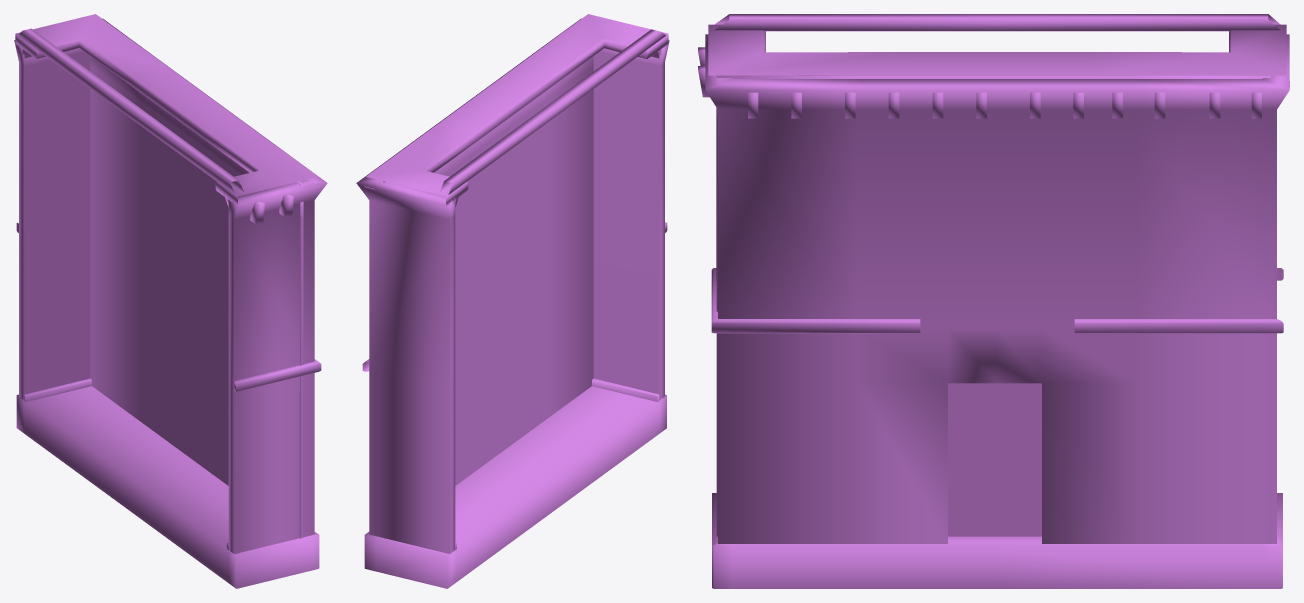
The model's file is Endbuilding(Mine)closed.fbx.
The picture shows the model from 3 angles, left to right: view 1: azimuth 30°, elevation 25°; view 2: azimuth 150°, elevation 25°; view 3: azimuth 270°, elevation 25°; orthographic projection. The views are drawn at different scales.
Visible parts, largest first — view 1: BrickHouse_End_B.001; view 2: BrickHouse_End_B.001; view 3: BrickHouse_End_B.001.
Boxes of the visible parts, <box> form: BrickHouse_End_B.001: <box>14,14,327,588</box>; BrickHouse_End_B.001: <box>356,14,669,588</box>; BrickHouse_End_B.001: <box>698,14,1289,588</box>.
Size of the model in its own units: 829 by 3583 by 3682.
